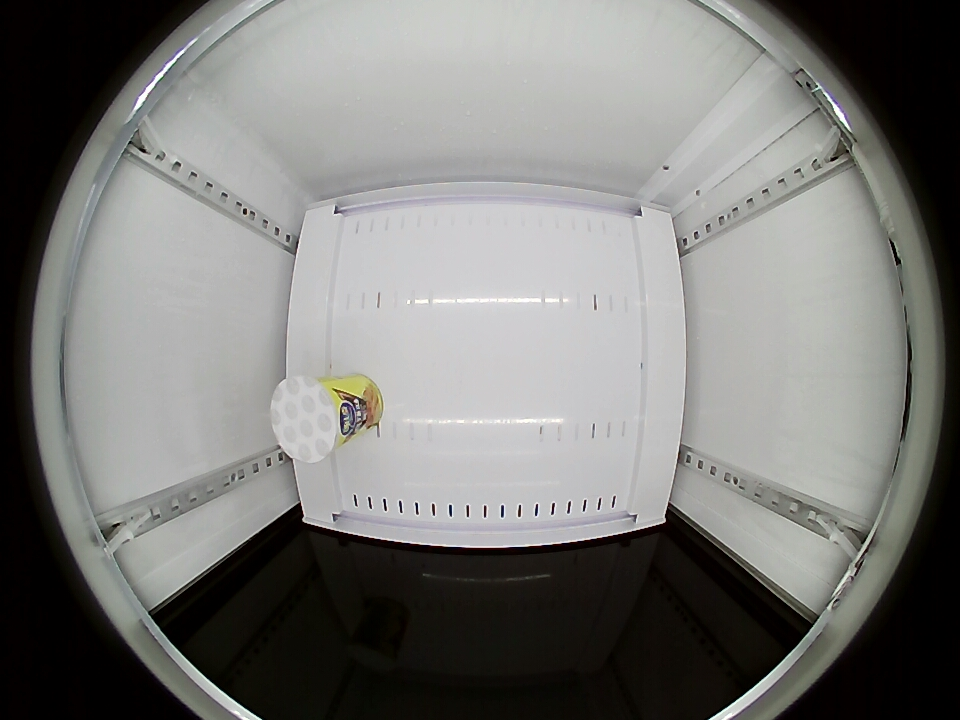kebike: (270, 375, 348, 464)
